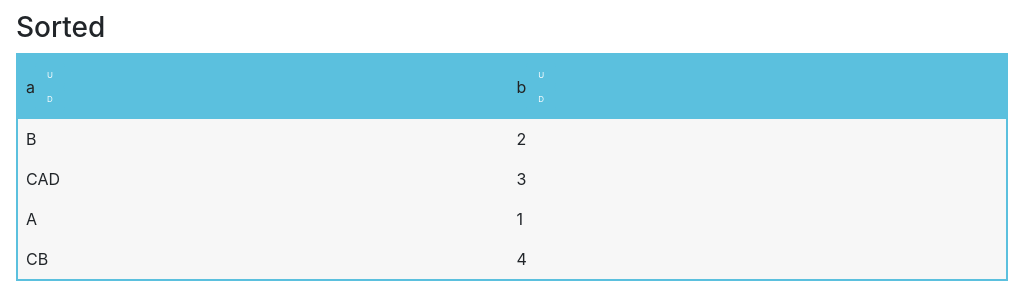
Scenario: Can order by numerical columns (descending)
Click the 2nd button with class "sortDescending".
click(541, 99)  # box [526,87,556,111]
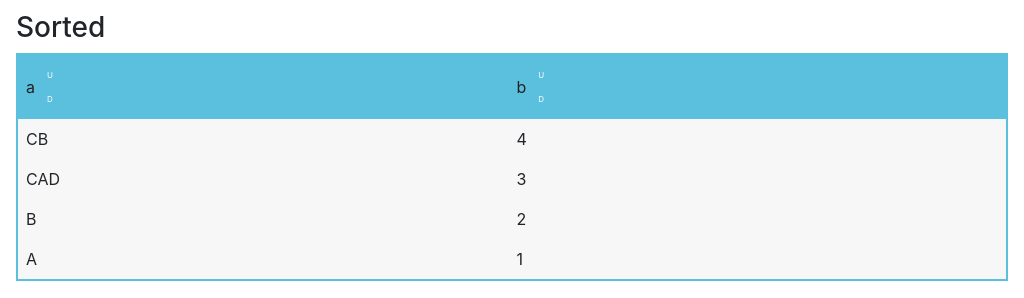
Now the cell "4" is shown, box [508,119,1007,159]
Now the cell "CB" is shown, box [17,119,508,159]
Now the cell "1" is shown, box [508,239,1007,280]
